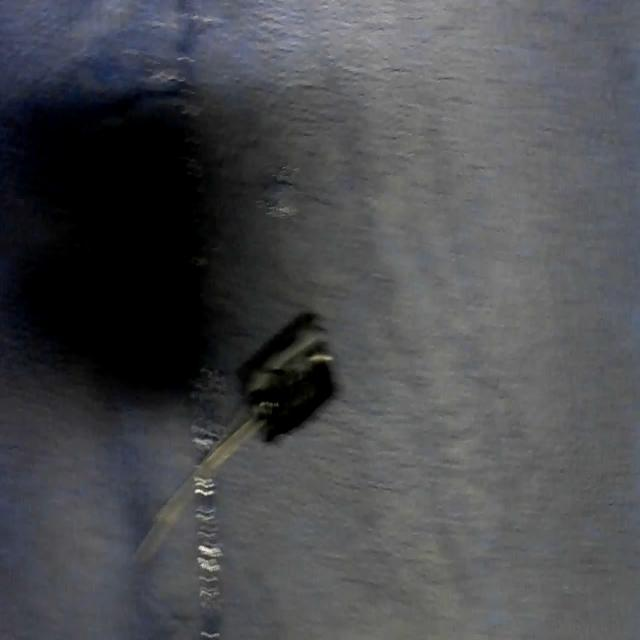capacitor: (136, 315, 334, 571)
